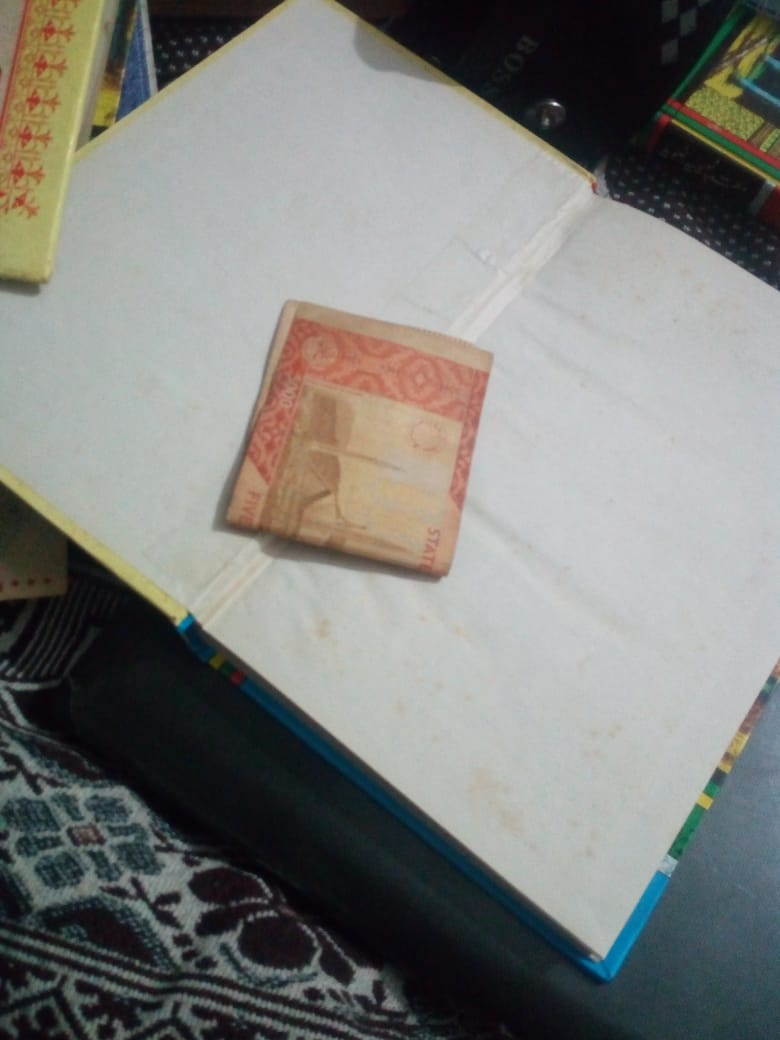5000 rupee: (162, 281, 514, 606)
